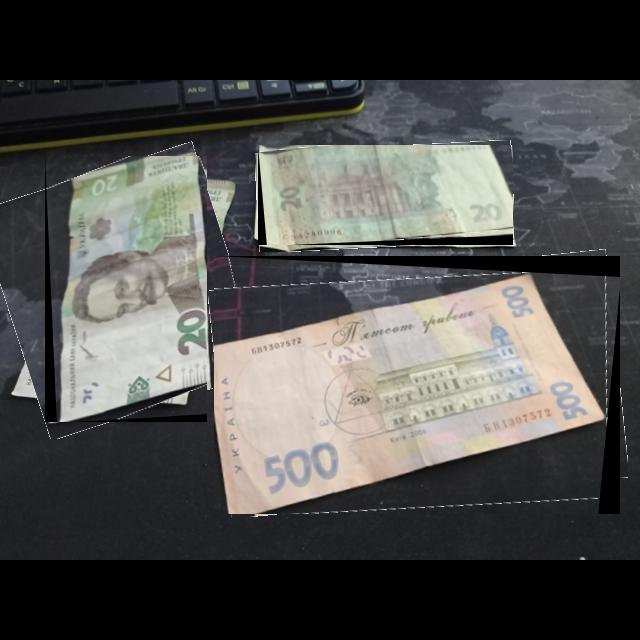20uah: (55, 156, 208, 423), (259, 145, 514, 246)
500uah: (214, 269, 610, 515)
